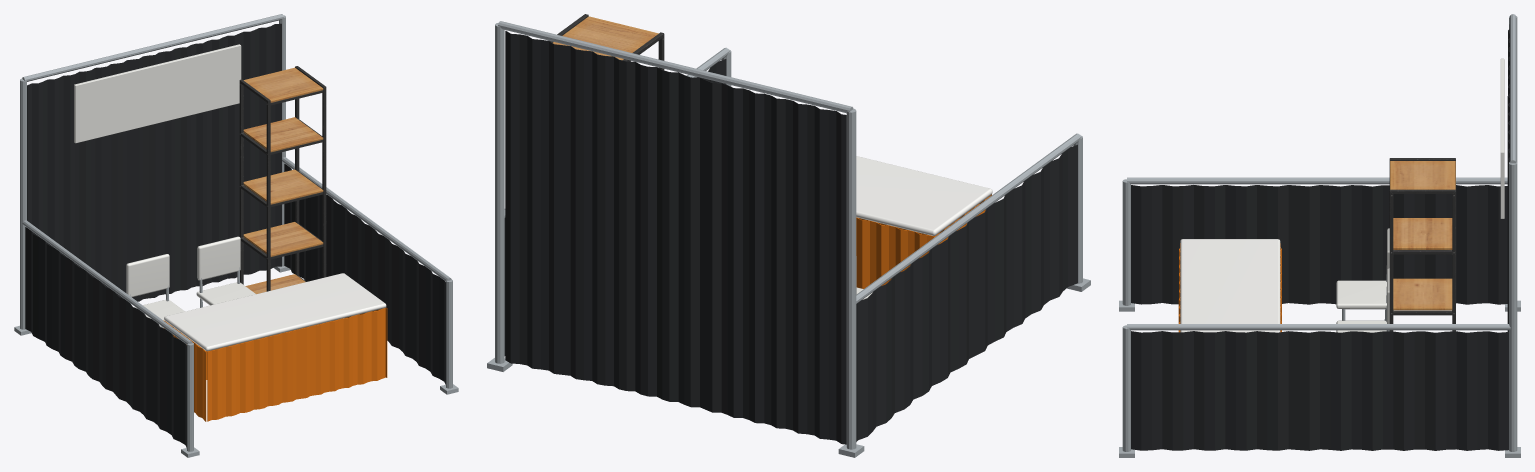
File: market-booth-v1.glb
3 views of the same model, side by side, from view 1: azimuth 30°, elevation 25°; view 2: azimuth 150°, elevation 25°; view 3: azimuth 270°, elevation 25° (orthographic). The views are drawn at different scales.
Parts seen in each view (by area): view 1: Show black drape, House-Hasson orange skirt, Rear right product shelf | Poly Haven CC0, Replaceable blank sign, White table linen, Dark stainless booth pipe, Warm white chair and sign; view 2: Show black drape, Dark stainless booth pipe, White table linen, House-Hasson orange skirt, Rear right product shelf | Poly Haven CC0; view 3: Show black drape, Dark stainless booth pipe, White table linen, Rear right product shelf | Poly Haven CC0, Warm white chair and sign, Replaceable blank sign.
Part boxes in pixels (x1,y1,x2,y2): Show black drape: (25,23,445,447); House-Hasson orange skirt: (163,307,387,421); Rear right product shelf | Poly Haven CC0: (239,66,326,293); Replaceable blank sign: (74,44,241,143); White table linen: (164,273,386,351); Dark stainless booth pipe: (14,14,458,457); Warm white chair and sign: (126,236,255,327); Show black drape: (504,30,1077,444); Dark stainless booth pipe: (487,21,1090,457); White table linen: (856,156,992,235); House-Hasson orange skirt: (856,194,991,288); Rear right product shelf | Poly Haven CC0: (549,14,664,70); Show black drape: (1131,24,1509,450); Dark stainless booth pipe: (1119,14,1520,457); White table linen: (1180,239,1280,332); Rear right product shelf | Poly Haven CC0: (1389,158,1455,331); Warm white chair and sign: (1336,228,1389,332); Replaceable blank sign: (1500,58,1504,218).
Size of the model in its own units: 2.74 by 2.46 by 3.05.
Materials: 6 (1 with a texture image).
